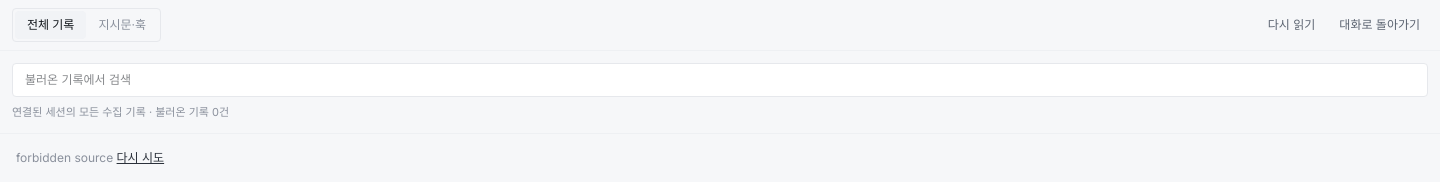
Test case: SessionInspector › shows a failed first page as an error with a working retry
This screenshot has width=1440, height=182.
Click the button "다시 시도" at (140,158), box [117, 150, 164, 166]
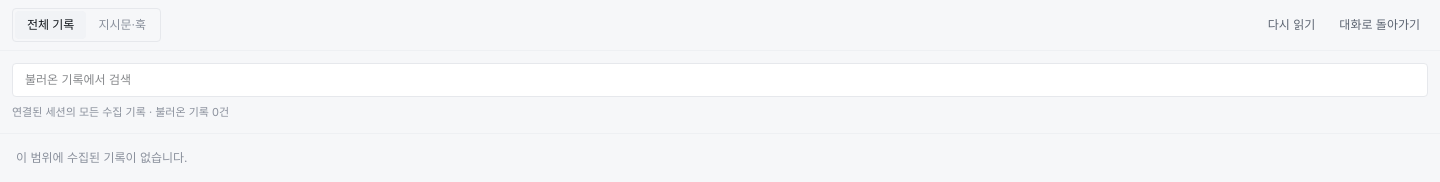
Result: the text "이 범위에 수집된 기록이 없습니다." is shown at [16, 150, 188, 165]
